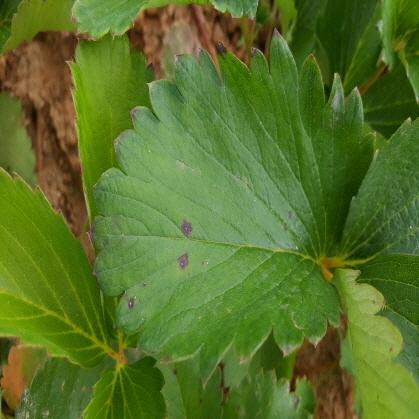Leaf Spot: (90, 26, 377, 390), (157, 352, 224, 418)
